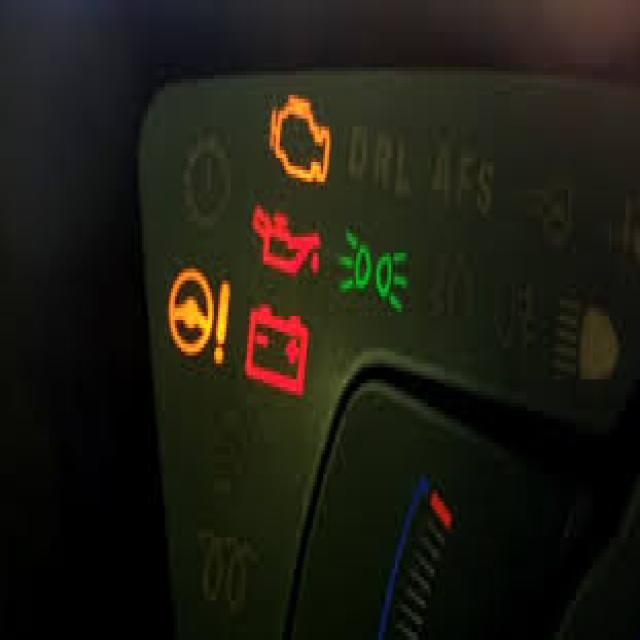kontrolka: (262, 72, 337, 192), (162, 261, 233, 381), (332, 222, 411, 326), (240, 295, 314, 403), (247, 194, 325, 290)
